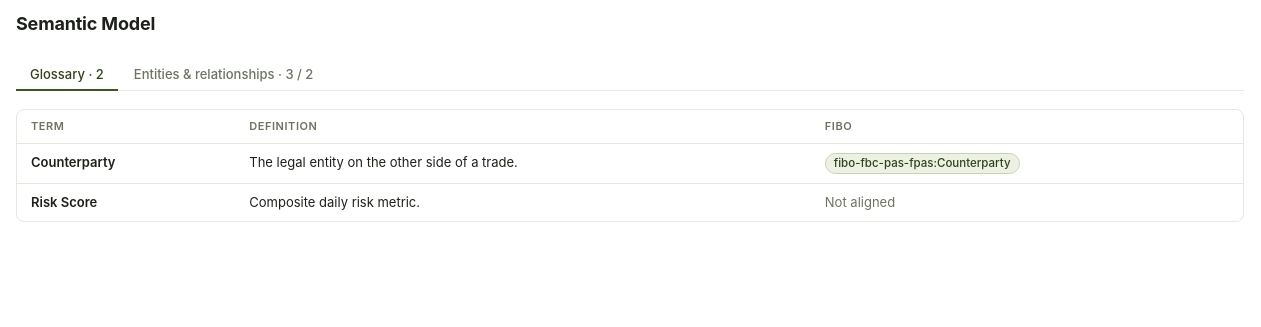
Test: a term with no rules touching its tables shows no governing rules, not a fabricated one
The width and height of the screenshot is (1261, 327).
Click the button "Risk Score".
click(64, 202)  # box [31,194,97,210]
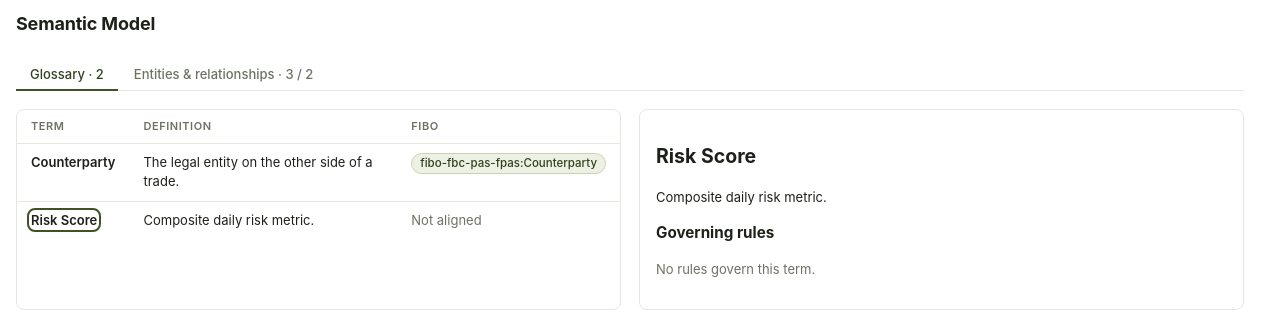
Expected: the text "No rules govern this term." is shown, [656,261,815,277]
